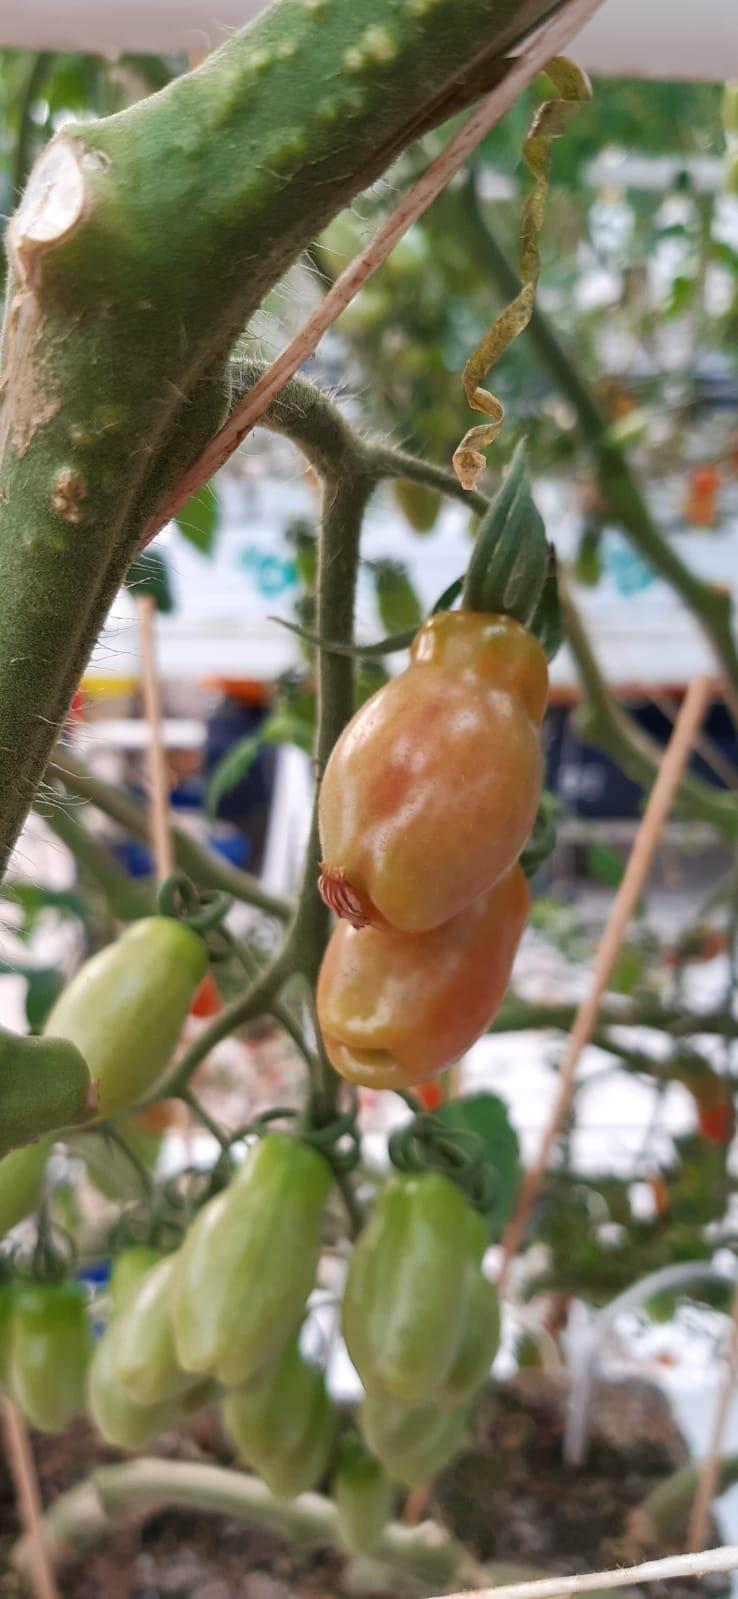Rugose stem: (10, 8, 563, 849)
